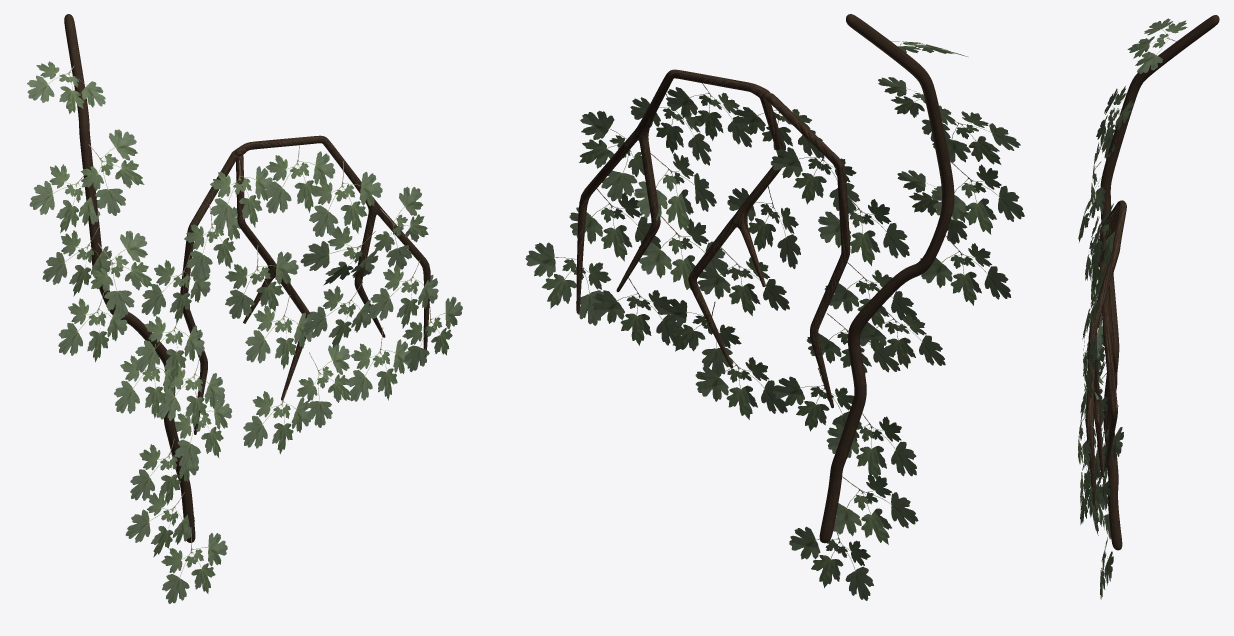
File: Amazonie_Lierre_2.fbx
3 renders of one model, left to right at view 1: azimuth 30°, elevation 25°; view 2: azimuth 150°, elevation 25°; view 3: azimuth 270°, elevation 25°, orthographic. The views are drawn at different scales.
Parts seen in each view (by area): view 1: Plane.004, Plane; view 2: Plane.004, Plane; view 3: Plane.004, Plane.
Boxes of the visible parts, <box> form: Plane.004: <box>27,61,462,603</box>; Plane: <box>64,14,430,542</box>; Plane.004: <box>525,41,1024,600</box>; Plane: <box>576,14,954,543</box>; Plane.004: <box>1078,18,1187,599</box>; Plane: <box>1086,15,1219,550</box>.
Bounding box in the file's own units: 1665 × 1980 × 474.
